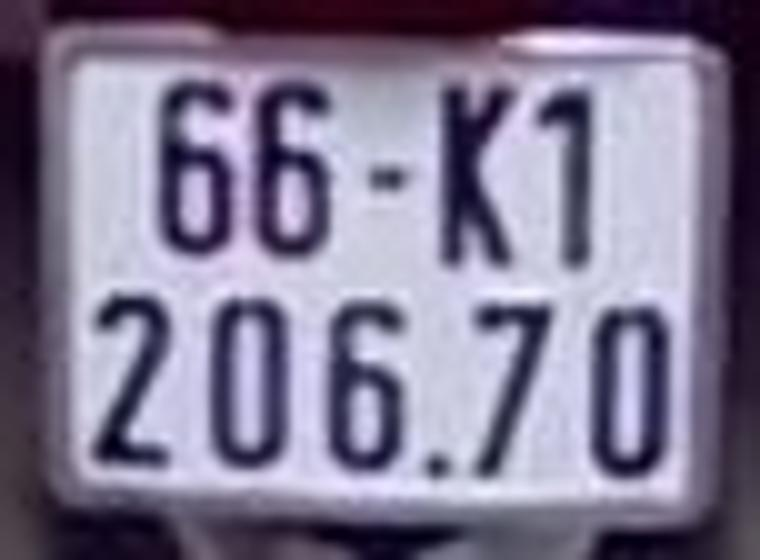-: (355, 155, 411, 195)
.: (423, 453, 451, 481)
0: (205, 298, 290, 472), (590, 308, 669, 477)
1: (537, 81, 599, 265)
2: (90, 289, 175, 472)
6: (321, 299, 406, 472), (155, 81, 227, 254), (254, 81, 325, 255)
7: (462, 299, 554, 483)
K: (428, 68, 515, 273)
